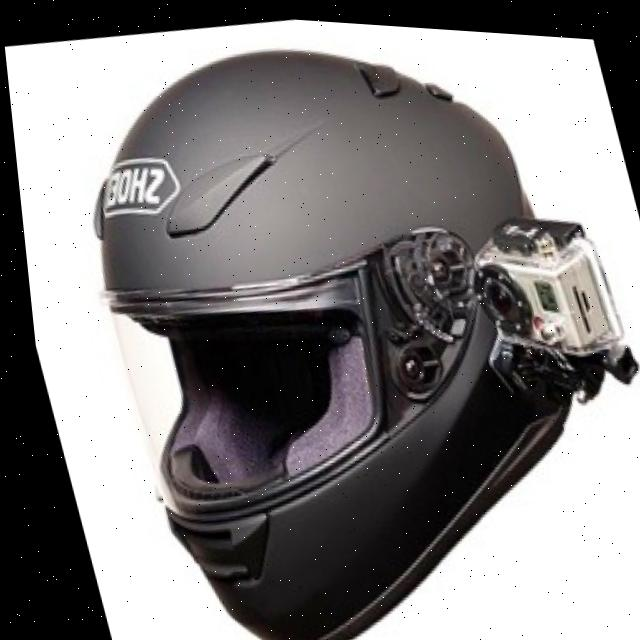helmet: (29, 2, 640, 640)
